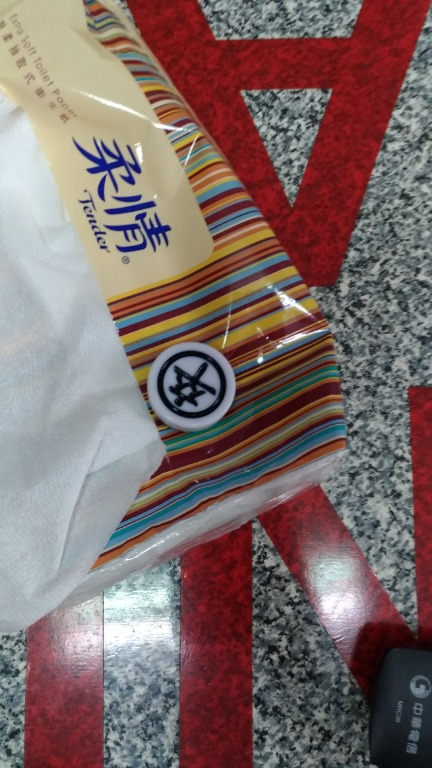b-pawn: (129, 329, 270, 439)
